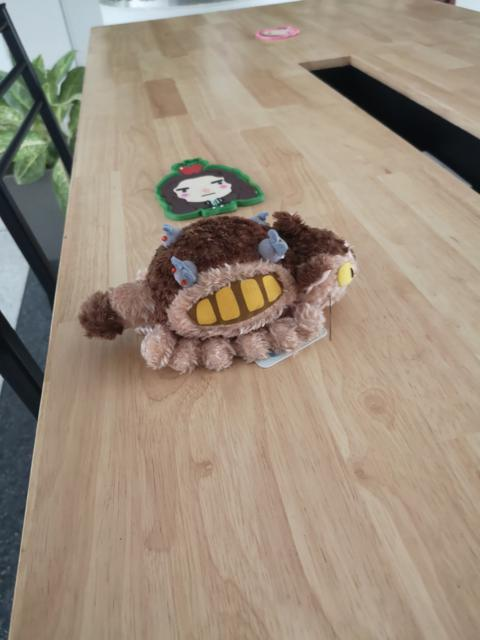nekobus: (74, 200, 362, 377)
